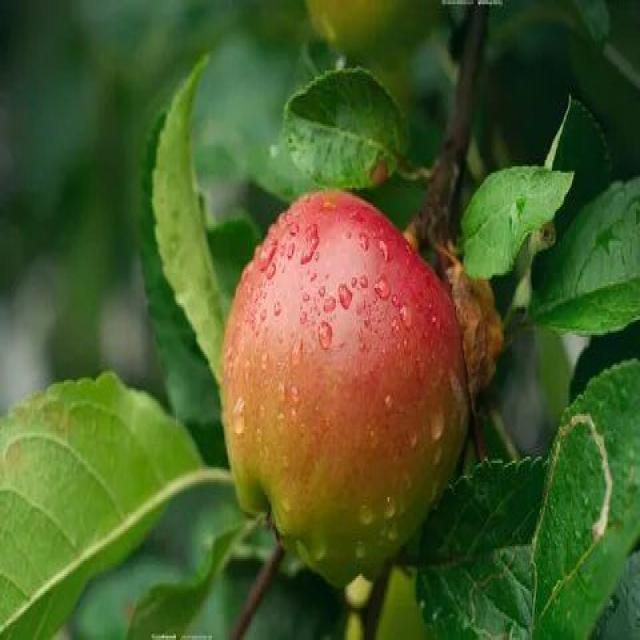Fresh Apple: (214, 207, 484, 575)
